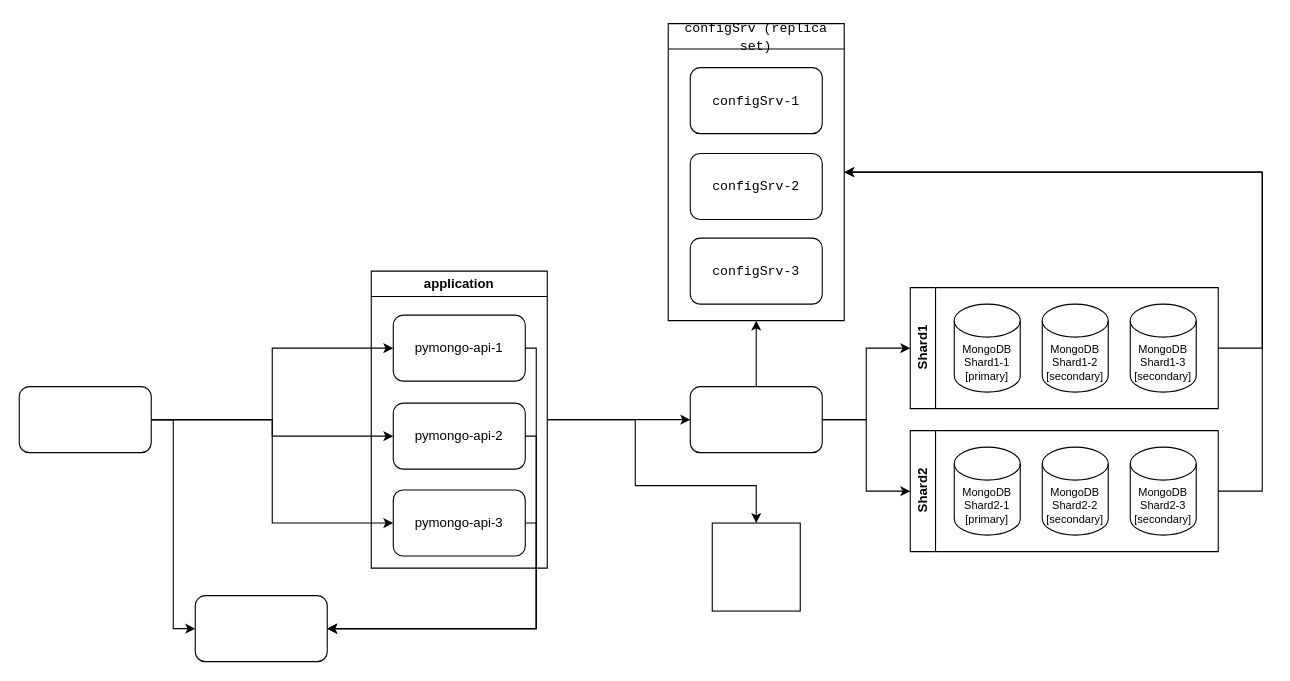
The diagram is 1290 pixels wide and 681 high, and some of its shapes have lost their labels. The centre of each missing label's shape, as x and y in pixels:
API Gateway: pixel 84 419
Consul: pixel 260 628
mongos_router: pixel 755 419
redis: pixel 755 566
